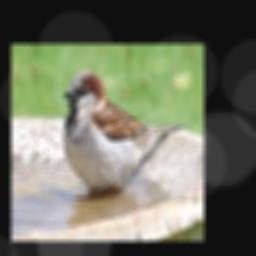Sparrow: (63, 69, 186, 194)
